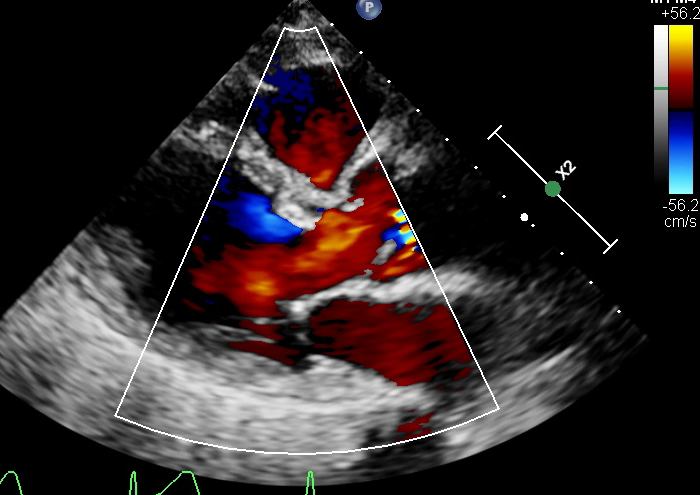AR: (251, 207, 399, 300)
